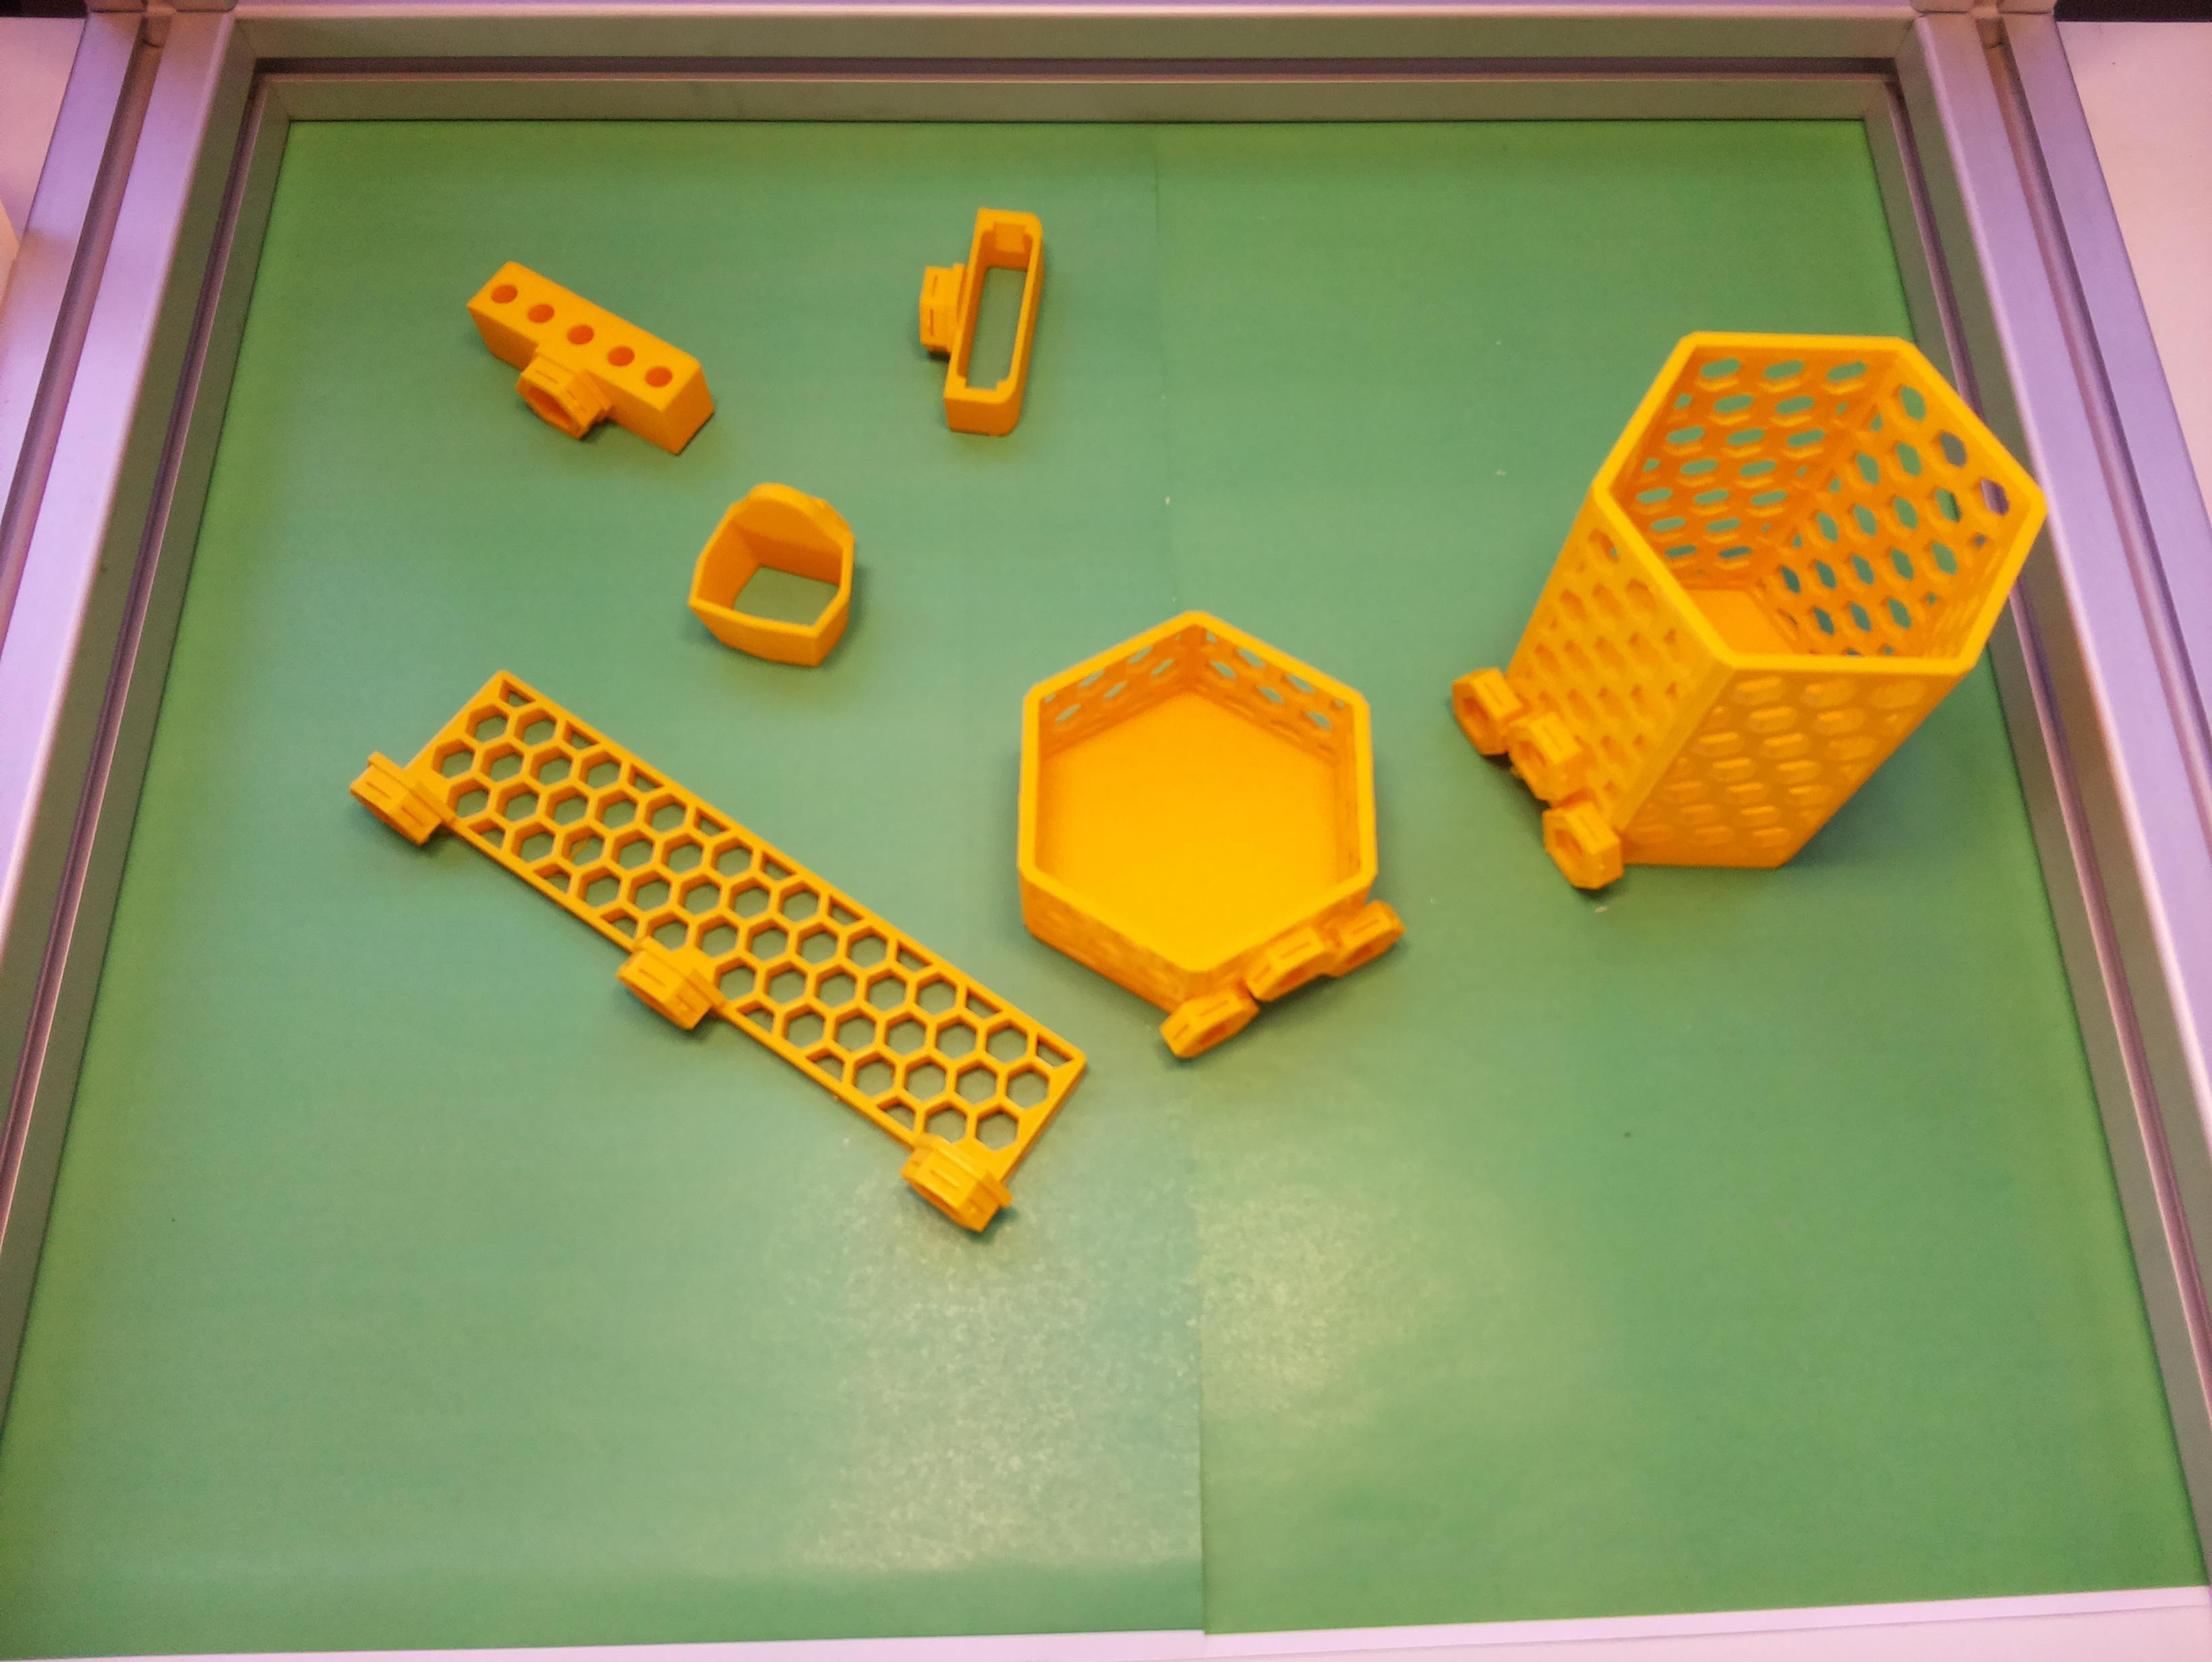bit_holder: (436, 251, 732, 491)
bottle_holder: (929, 552, 1475, 1096)
cup_holder: (1388, 234, 2106, 1000)
cutter_holder: (901, 199, 1054, 442)
scissor_holder: (674, 466, 887, 683)
tool_holder: (335, 632, 1102, 1241)
